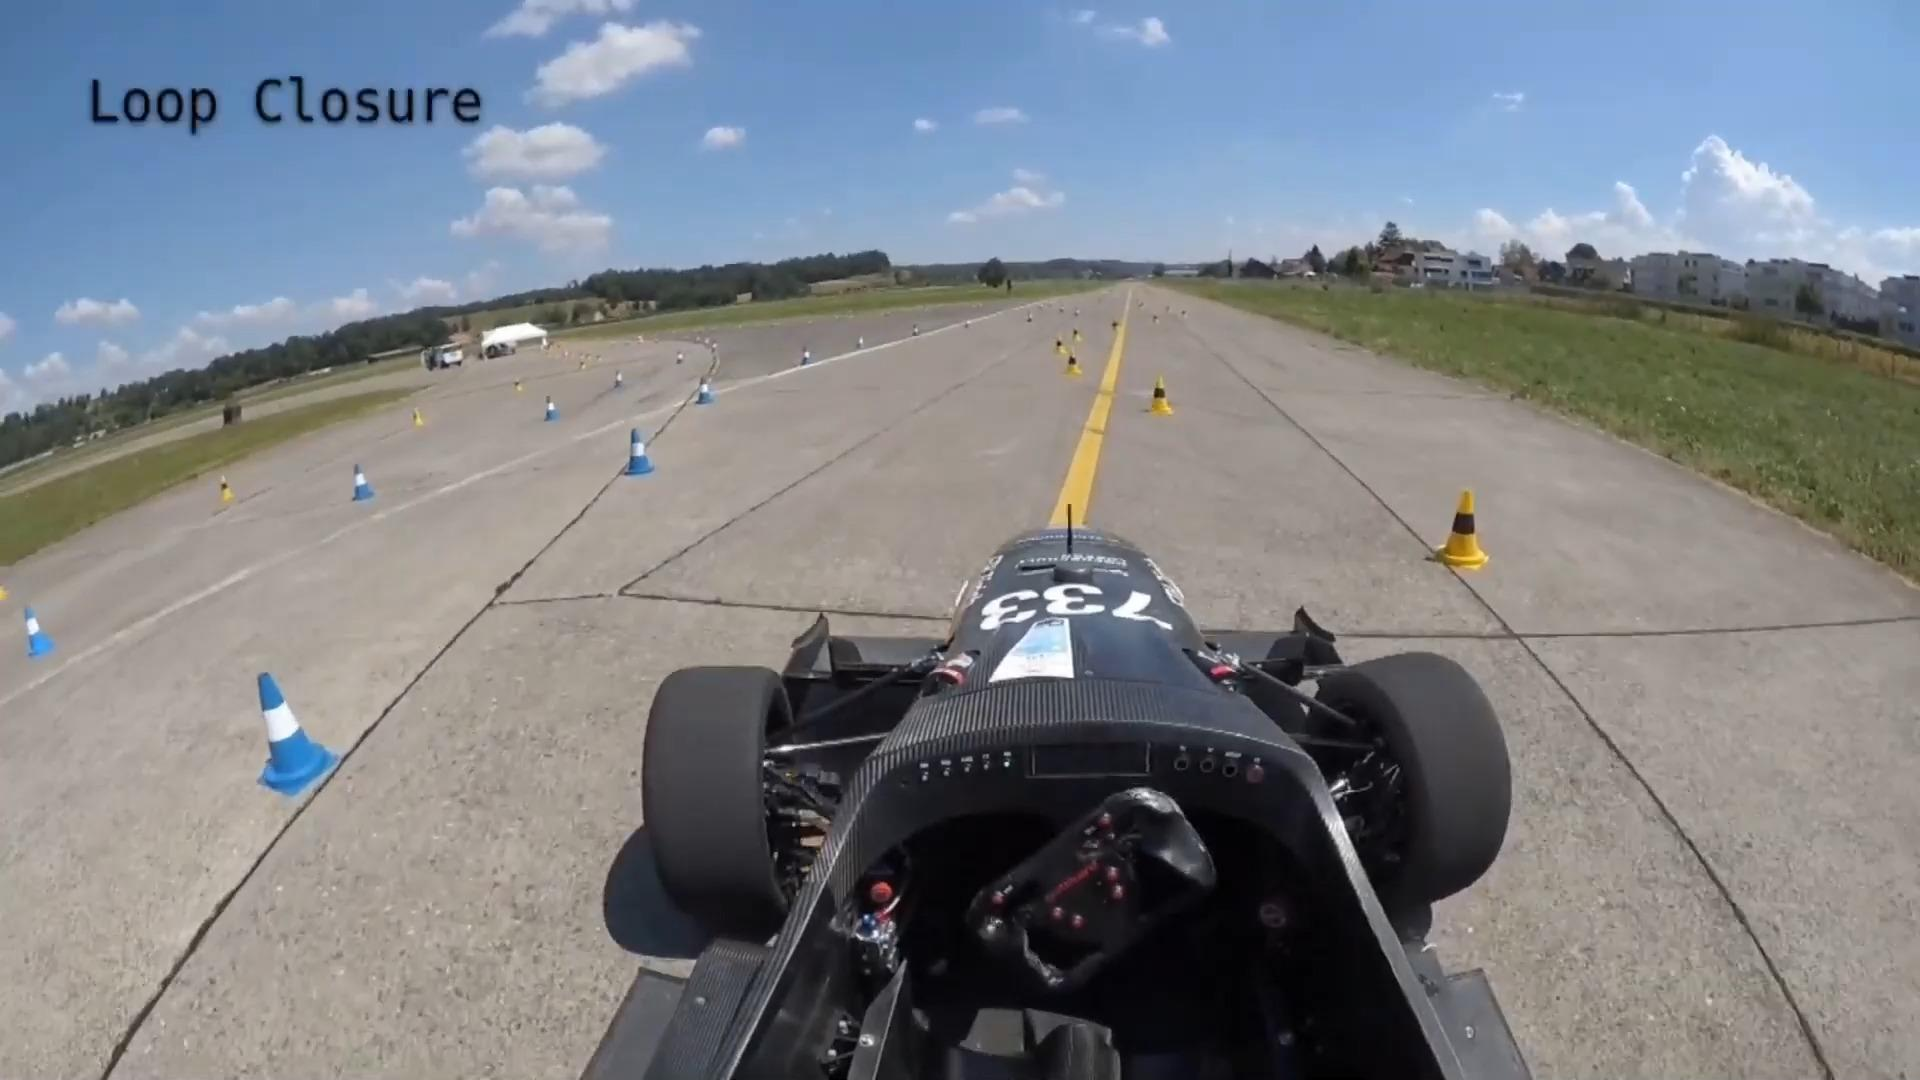blue_cone: (253, 661, 340, 804), (620, 429, 661, 479), (22, 603, 54, 661), (348, 460, 378, 506), (694, 373, 717, 406), (539, 394, 563, 426), (609, 369, 625, 390), (799, 345, 815, 367)
yellow_cone: (1424, 488, 1490, 571), (1143, 377, 1175, 418), (219, 471, 240, 506), (1064, 351, 1087, 381), (409, 404, 426, 431), (1052, 334, 1069, 359), (1071, 326, 1084, 348), (1109, 316, 1121, 340)
